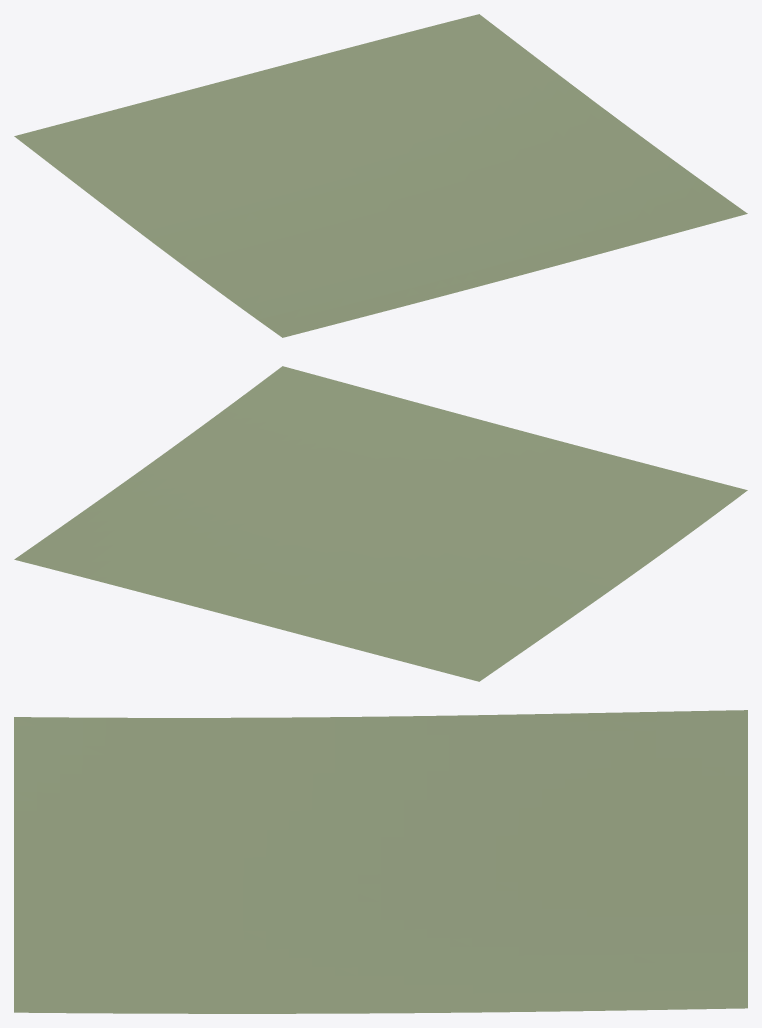
The model's file is expanse-29-10.glb.
The picture shows the model from 3 angles, top to bottom: view 1: azimuth 30°, elevation 25°; view 2: azimuth 150°, elevation 25°; view 3: azimuth 270°, elevation 25°; orthographic projection. The views are drawn at different scales.
Parts seen in each view (by area): view 1: expanse-29-10; view 2: expanse-29-10; view 3: expanse-29-10.
Part boxes in pixels (x1,y1,x2,y2): expanse-29-10: (14, 14, 747, 337); expanse-29-10: (14, 366, 747, 681); expanse-29-10: (14, 710, 747, 1013).
Bounding box in the file's own units: 256 × 7.57 × 256.
